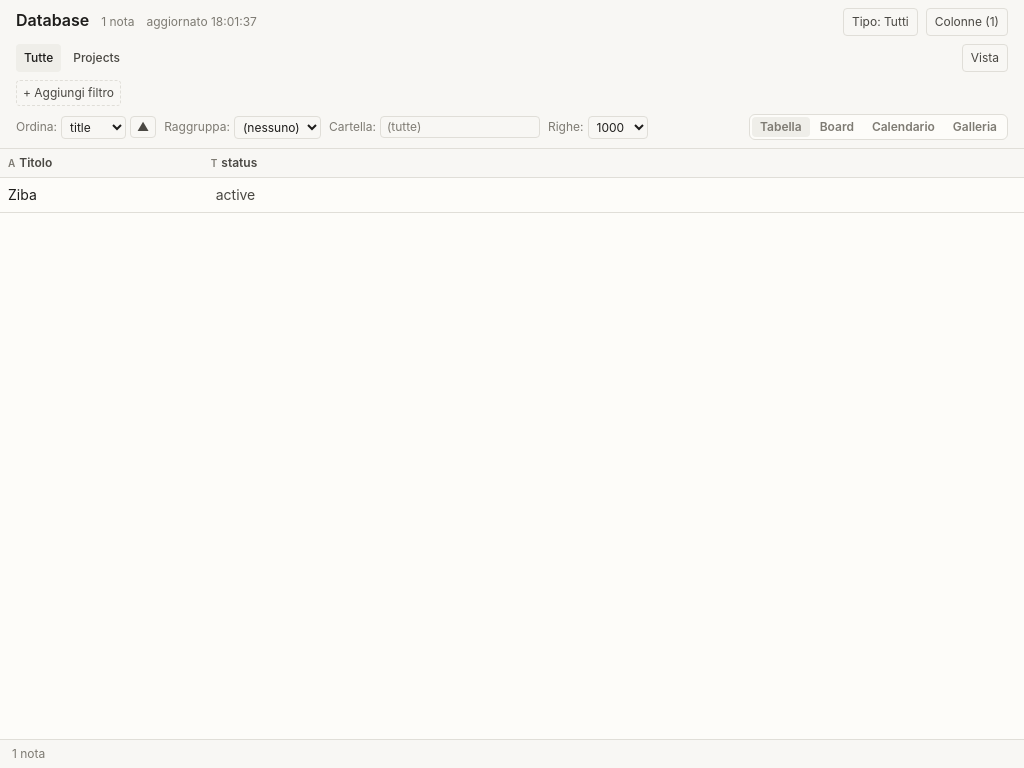
Test: <DatabaseView> › opens and closes the saved-view menu with outside click and Escape
Click the button "Vista" at (985, 58), box [962,44,1008,72]
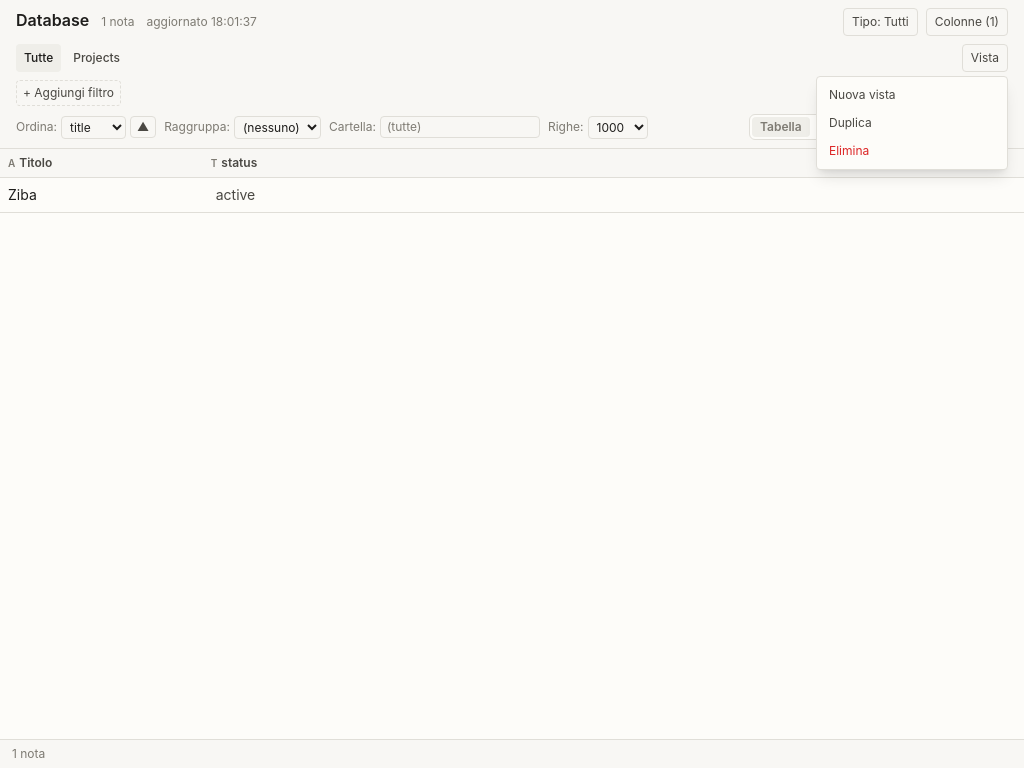
Check: the menu is shown, box [816,76,1008,170]
Press the mouse on the element that starts with "Database" at (512, 384), box [0,0,1023,767]
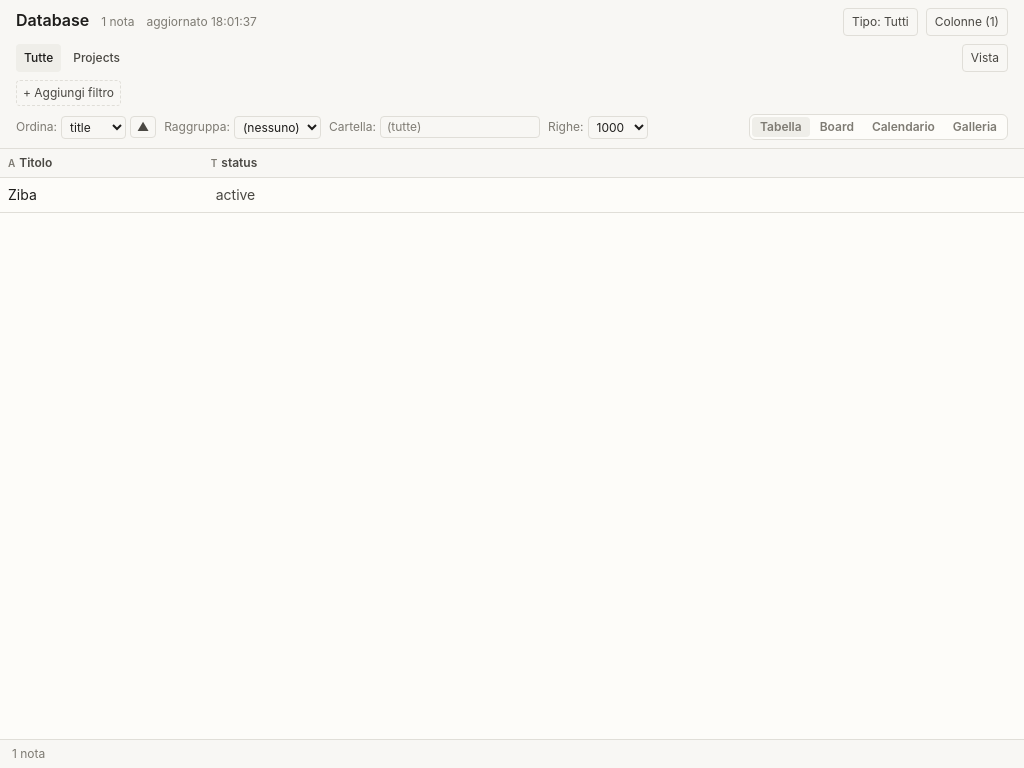
Check: the menu is gone
Click the button "Vista" at (985, 58), box [962,44,1008,72]
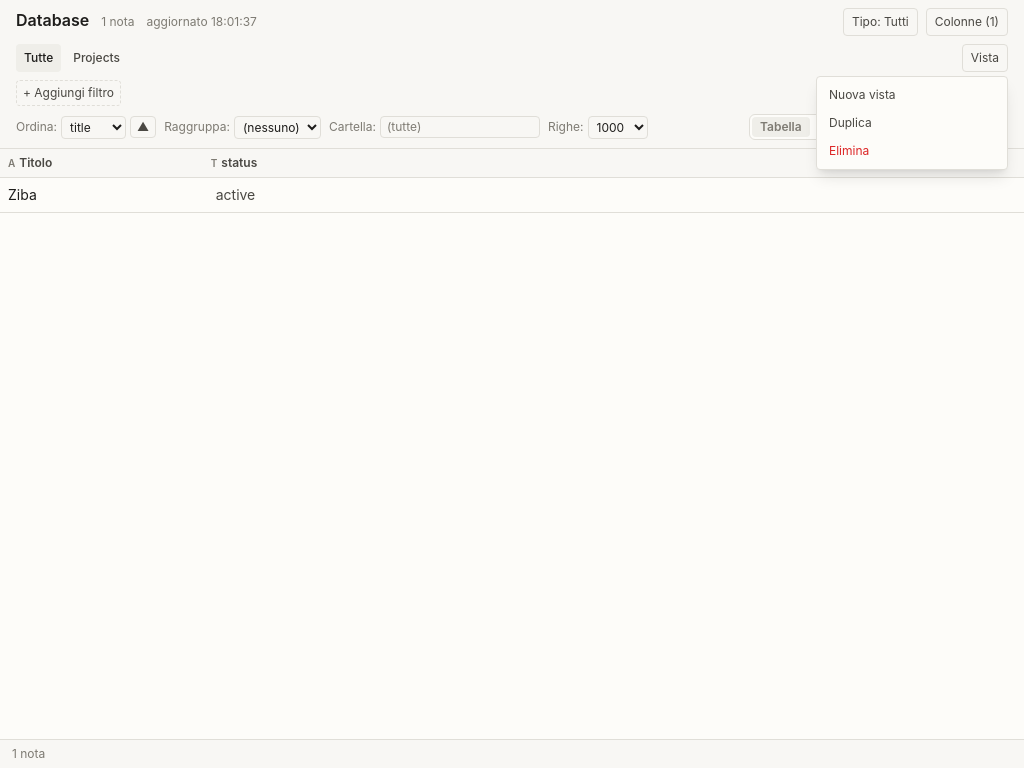
Check: the menu is shown, box [816,76,1008,170]
Press Escape
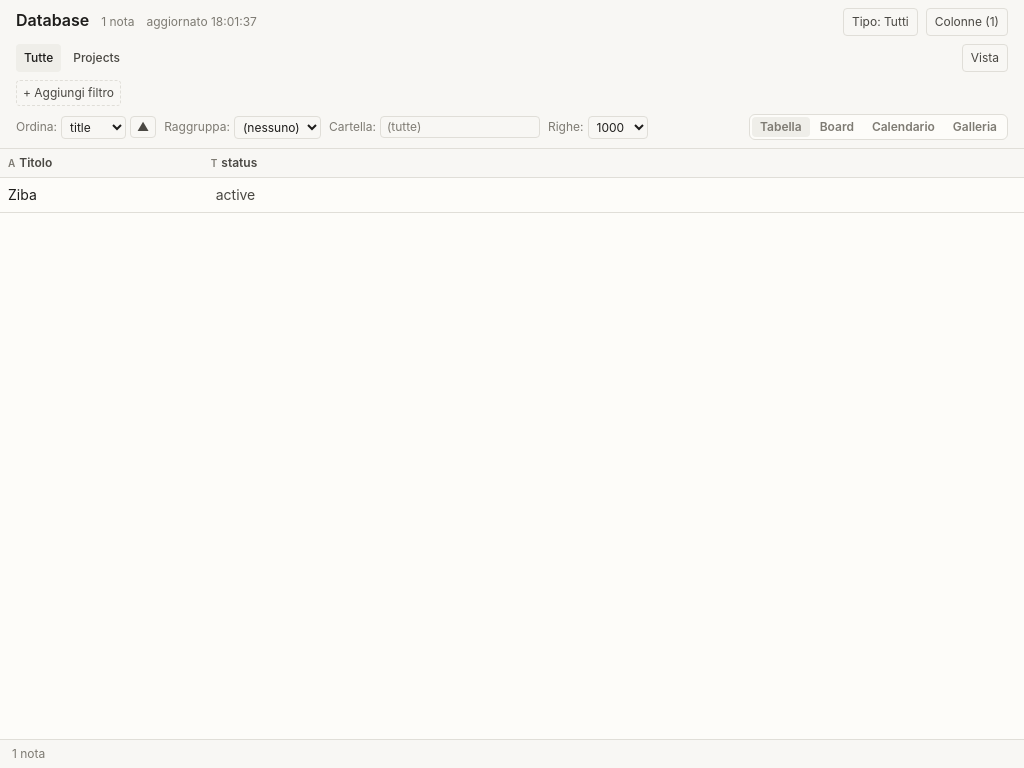
Check: the menu is gone
